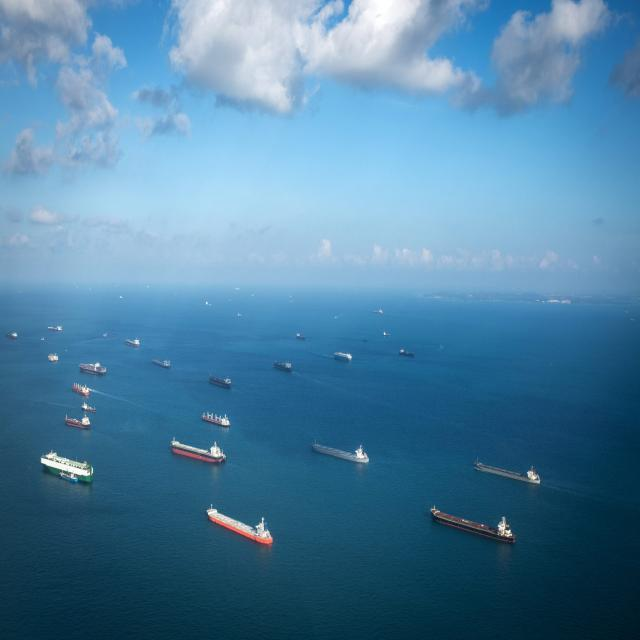ship2: (430, 508, 516, 547), (207, 504, 273, 548), (473, 456, 541, 488), (40, 452, 94, 487), (170, 437, 226, 466), (310, 441, 369, 465), (201, 413, 230, 427), (208, 375, 231, 390), (273, 360, 293, 374)
